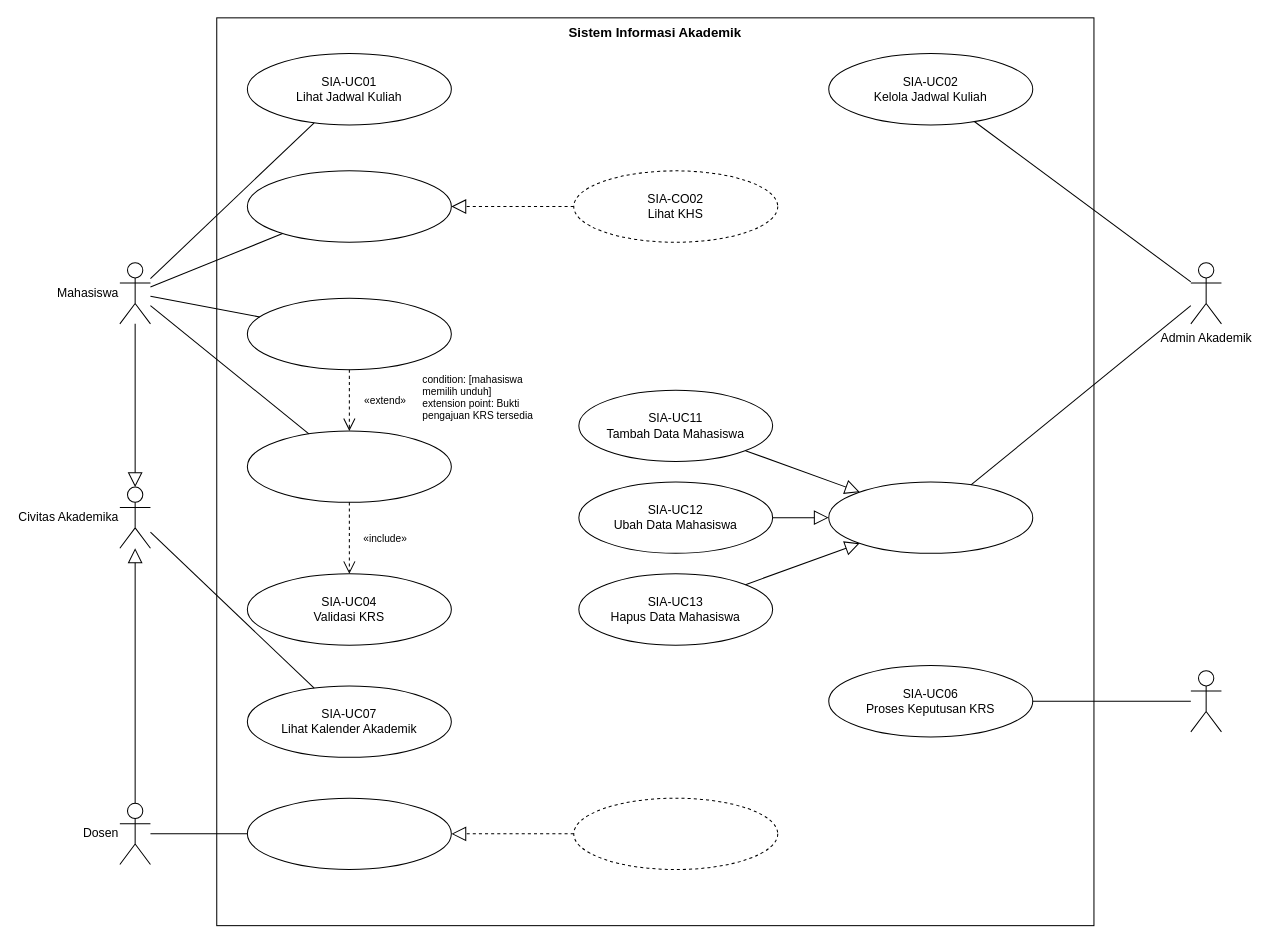
This 1269x944 diagram has some shape labels left out. The shapes that lost their labels are listed below. From the top down, each one's box as (x1, y1, x2, y2) in pixels, then its label:
(246, 170, 451, 242): SIA-UC09 Lihat KHS
(246, 297, 451, 370): SIA-UC05 Unduh Bukti Pengajuan KRS
(246, 430, 451, 502): SIA-UC03 Ajukan KRS
(828, 481, 1033, 553): SIA-UC10 Kelola Data Mahasiswa
(1190, 670, 1221, 732): Dosen Wali
(246, 797, 451, 870): SIA-UC08 Input Nilai Mata Kuliah
(573, 797, 778, 870): SIA-CO01 Input Nilai Mata Kuliah
